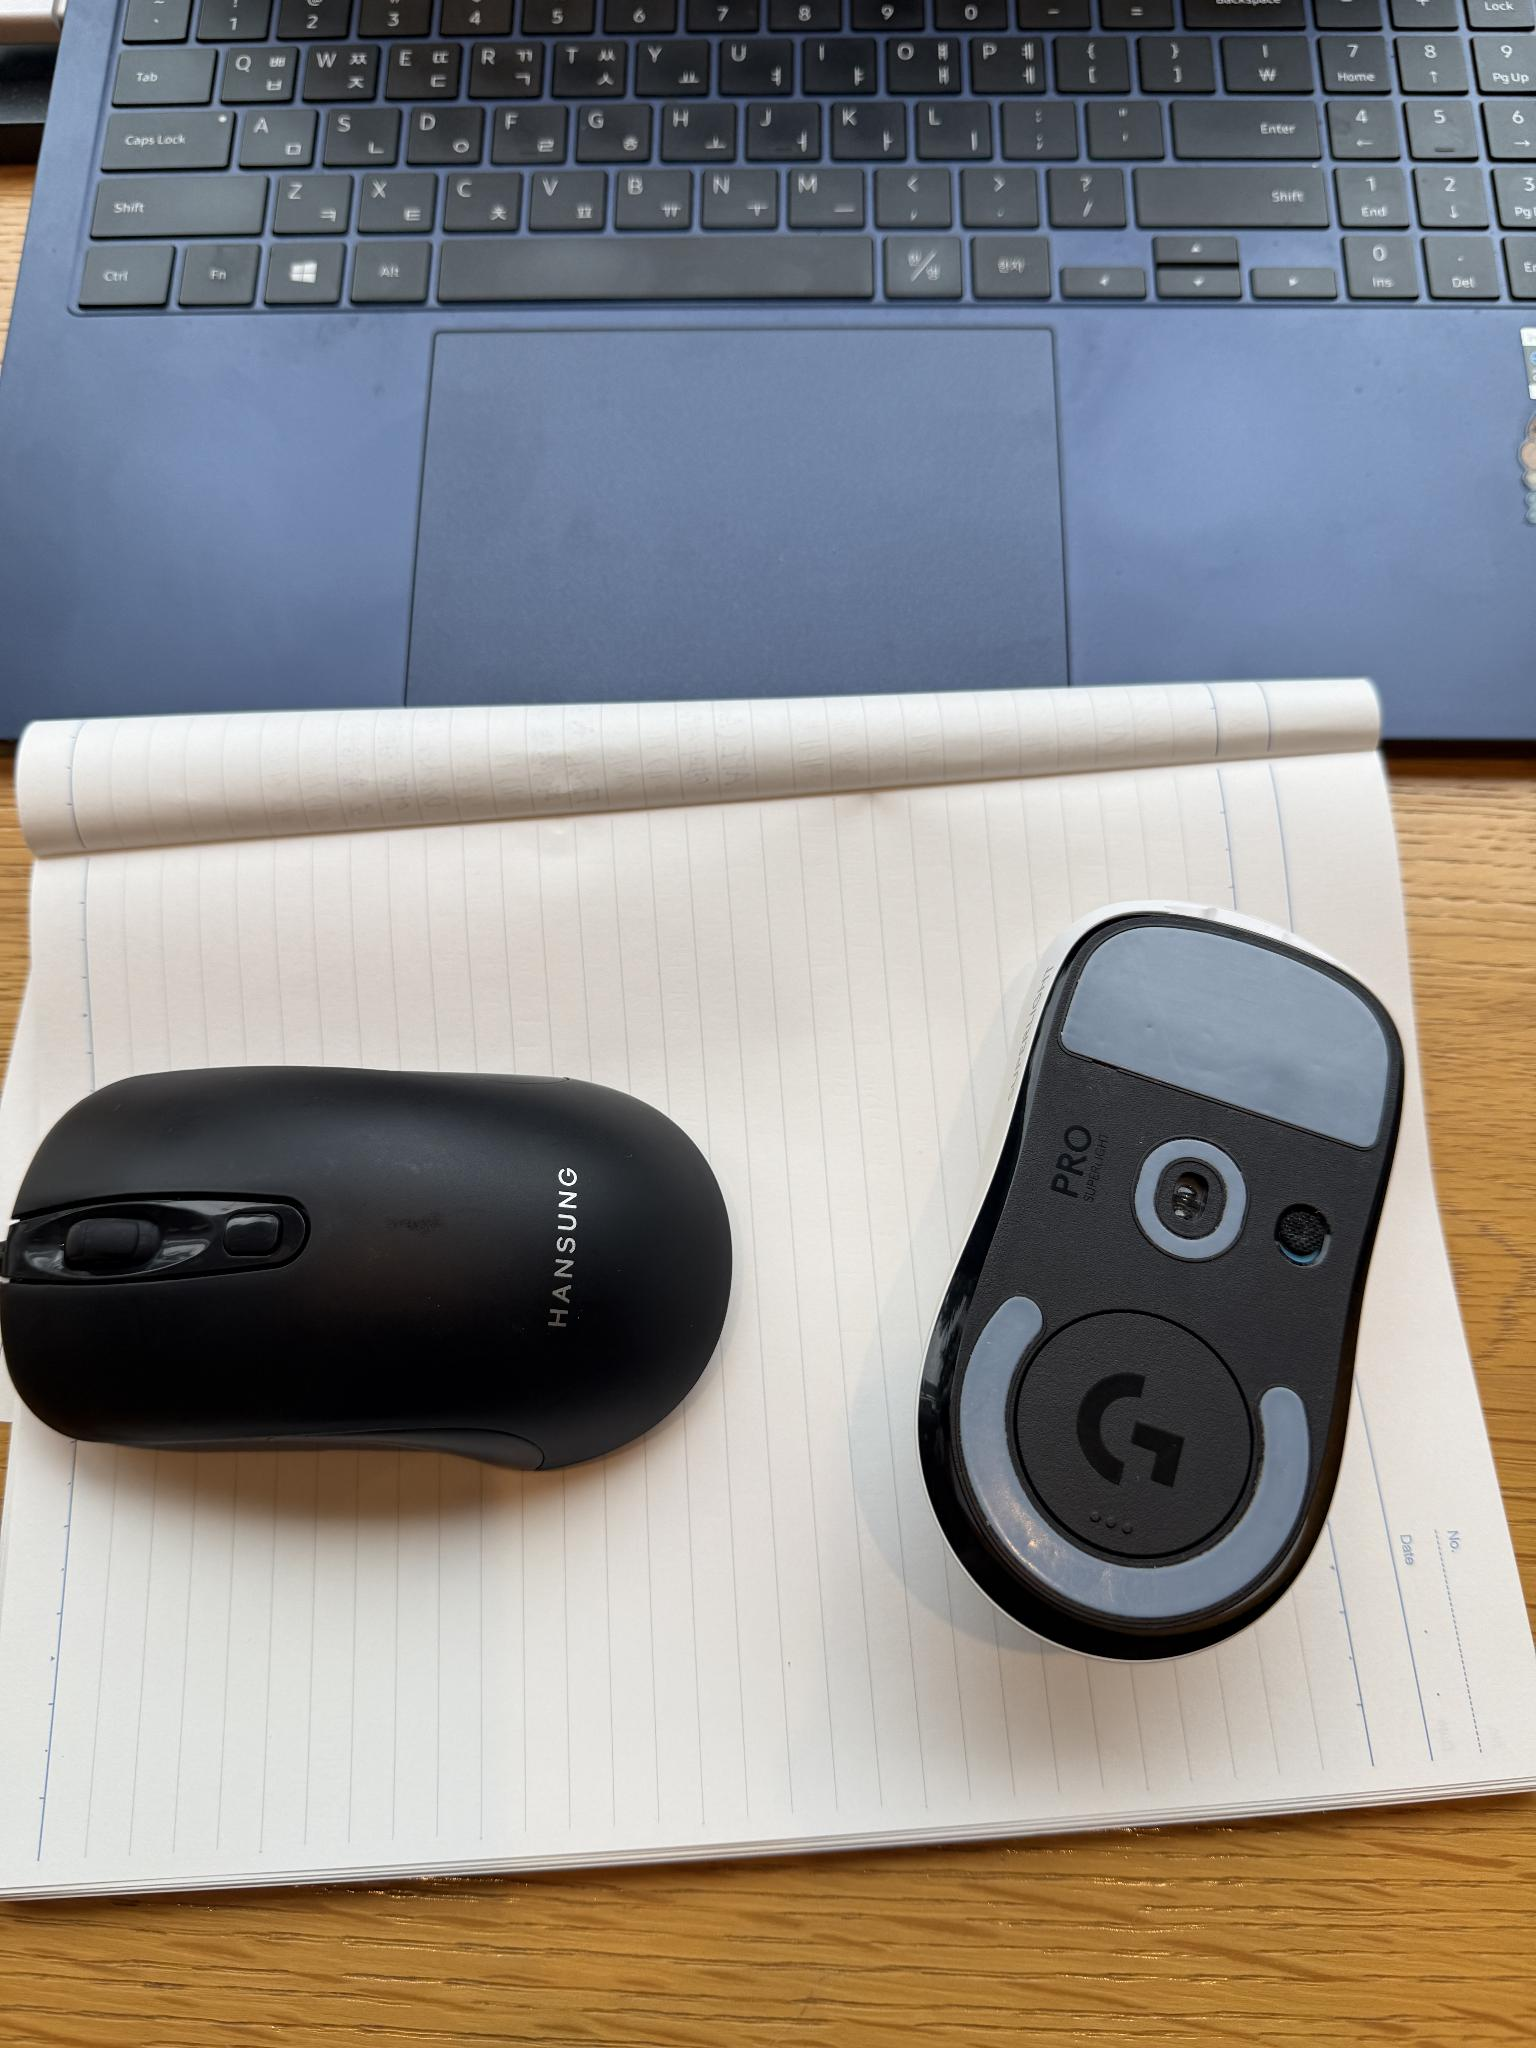back: (857, 889, 1399, 1671)
front: (6, 1058, 742, 1474)
